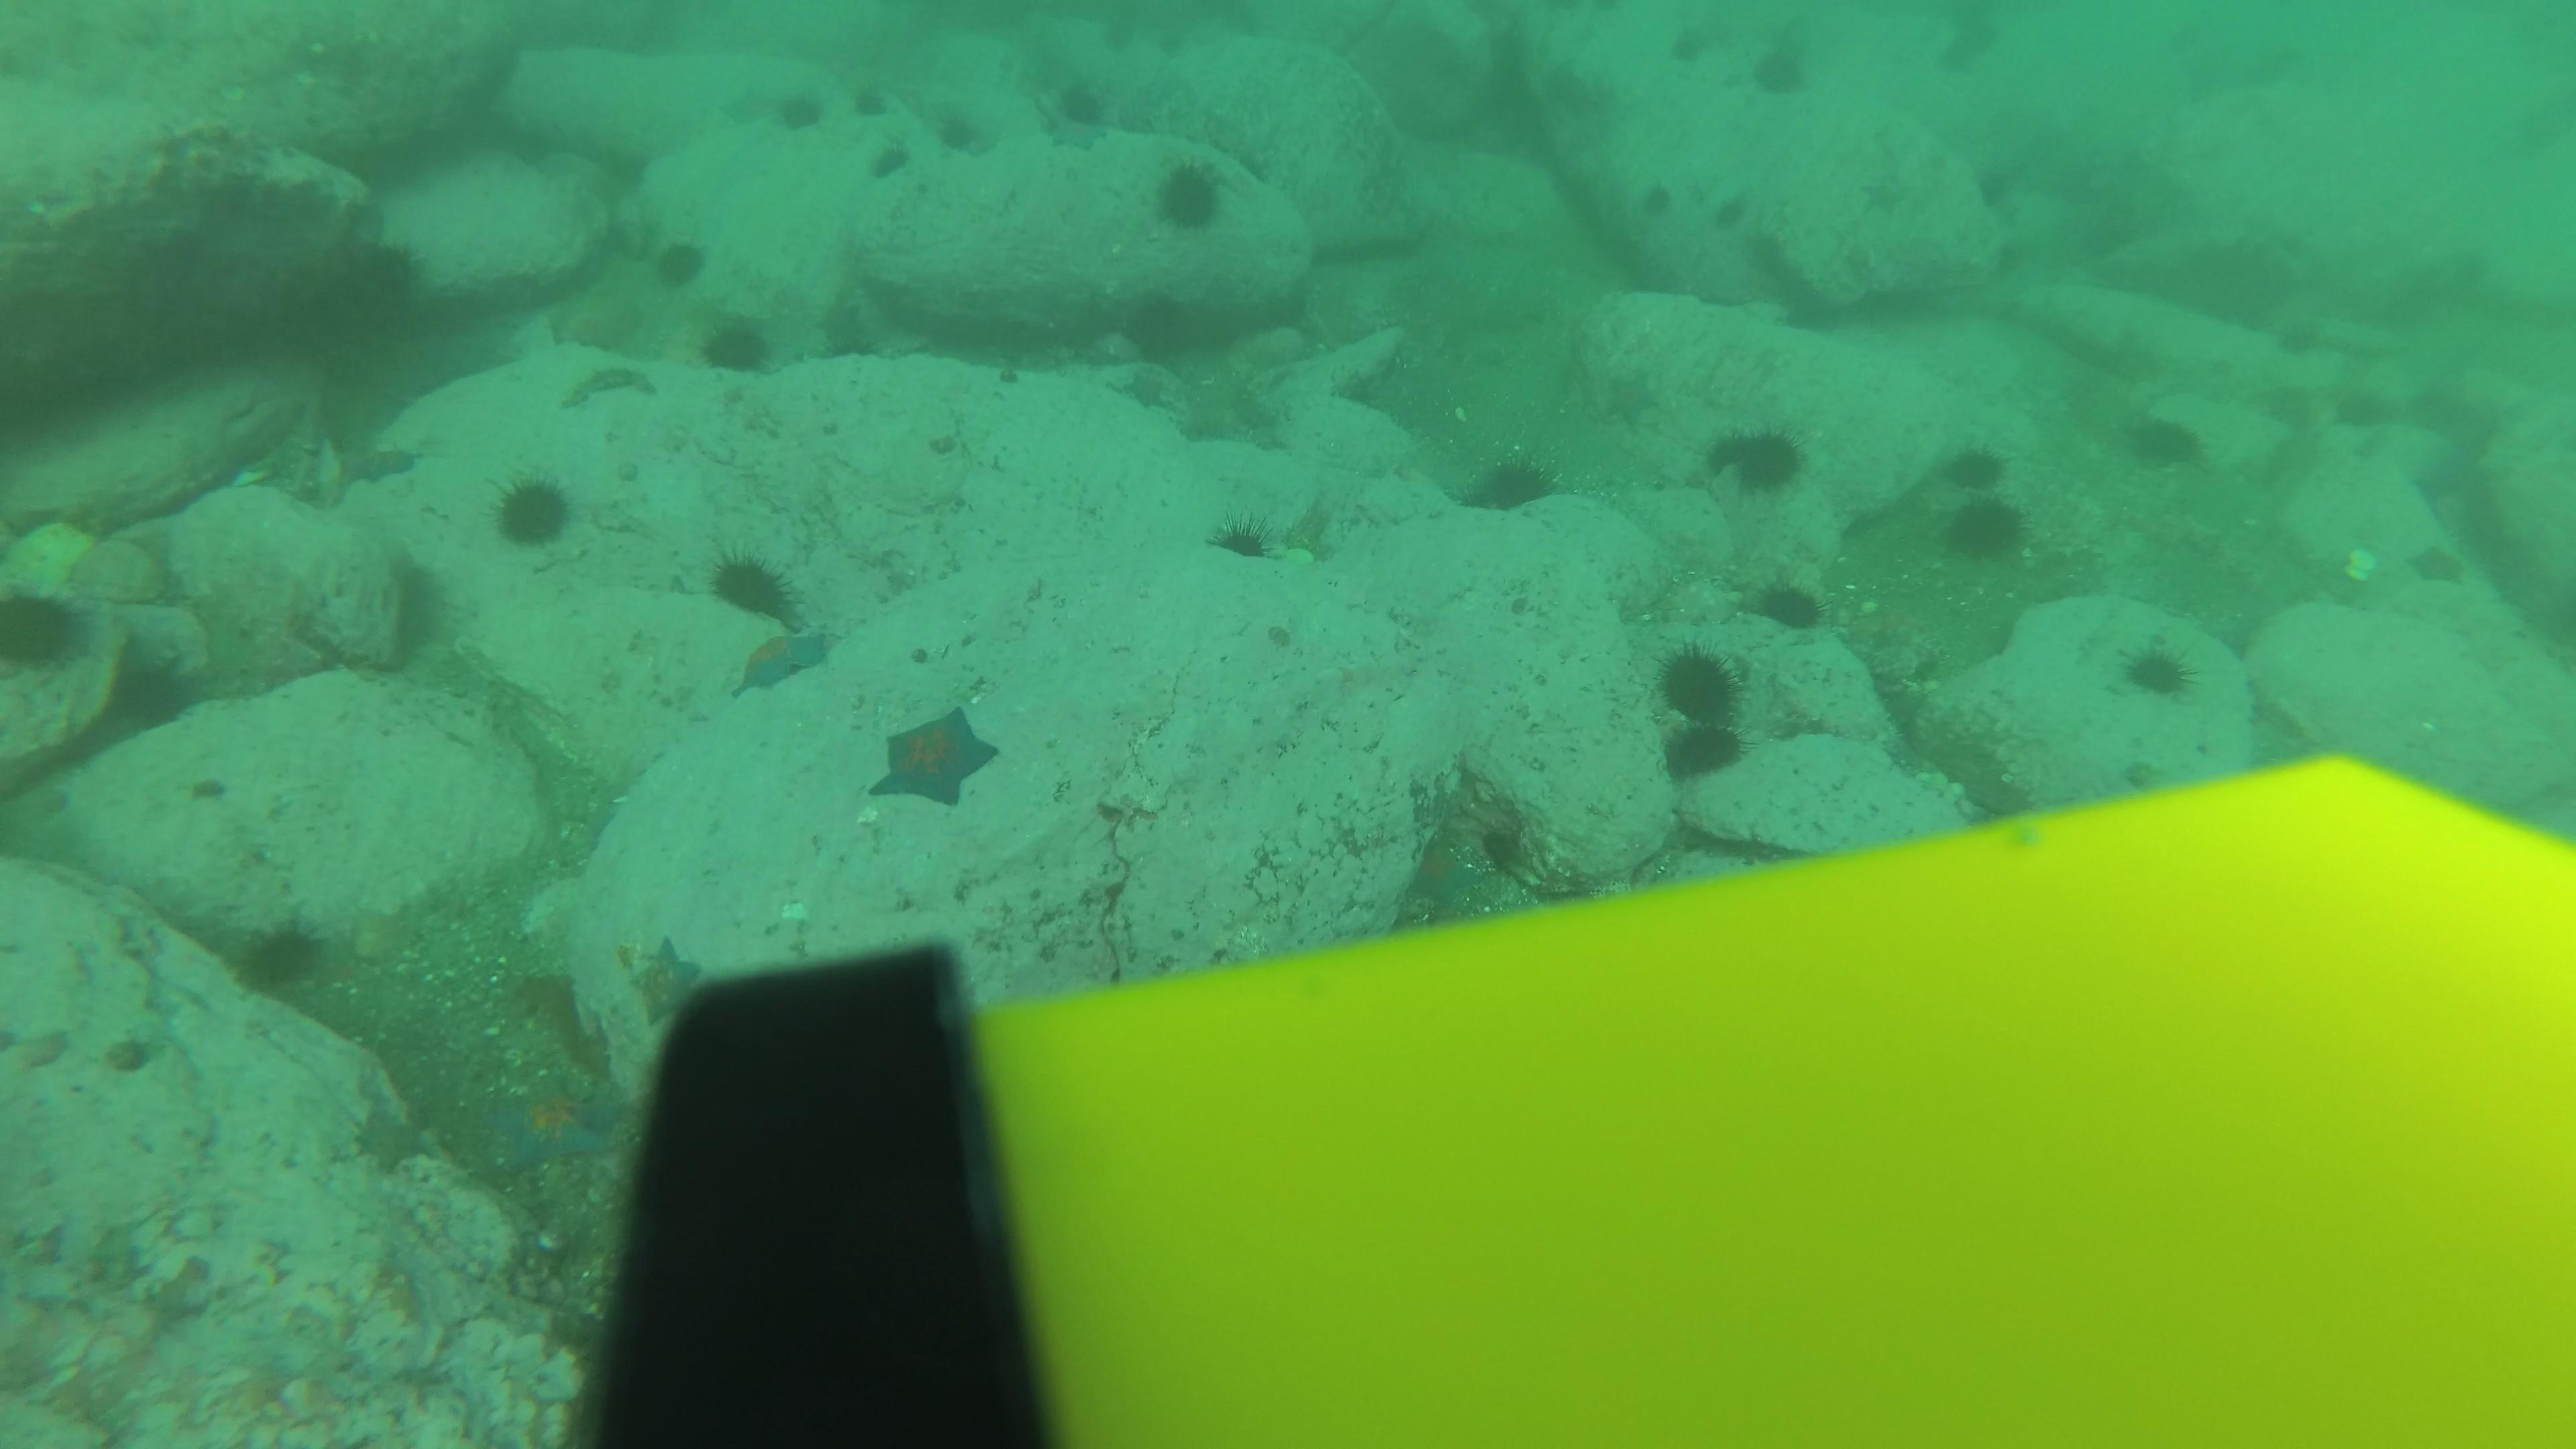echinus: (0, 580, 88, 678), (1706, 416, 1808, 499), (230, 915, 329, 1000), (1652, 642, 1746, 731), (706, 545, 800, 626), (488, 469, 577, 552), (1939, 488, 2029, 566), (1658, 717, 1743, 794), (1937, 439, 2013, 525), (1148, 156, 1230, 235), (1465, 448, 1557, 517), (2121, 407, 2206, 474), (697, 311, 777, 380), (2118, 637, 2197, 702), (1748, 573, 1826, 635), (1207, 510, 1274, 563), (856, 129, 913, 186), (918, 108, 975, 165), (1054, 81, 1111, 138), (653, 234, 708, 290), (1753, 42, 1812, 94), (1962, 159, 2020, 211), (1631, 172, 1688, 223), (2272, 306, 2328, 357), (1658, 19, 1716, 69), (1951, 12, 2010, 62), (2334, 384, 2392, 433), (1700, 186, 1757, 235), (780, 87, 835, 136), (1927, 37, 1974, 83), (1148, 21, 1200, 64), (847, 78, 895, 120), (1099, 9, 1136, 55)
starfish: (865, 702, 1001, 812), (487, 1067, 621, 1173), (317, 1088, 451, 1194), (619, 931, 713, 1033), (727, 623, 833, 697), (1399, 828, 1491, 913), (559, 359, 660, 410), (341, 435, 428, 490), (1594, 363, 1661, 432), (715, 76, 784, 136), (1113, 361, 1178, 414), (2406, 538, 2468, 589), (1858, 170, 1907, 219)
